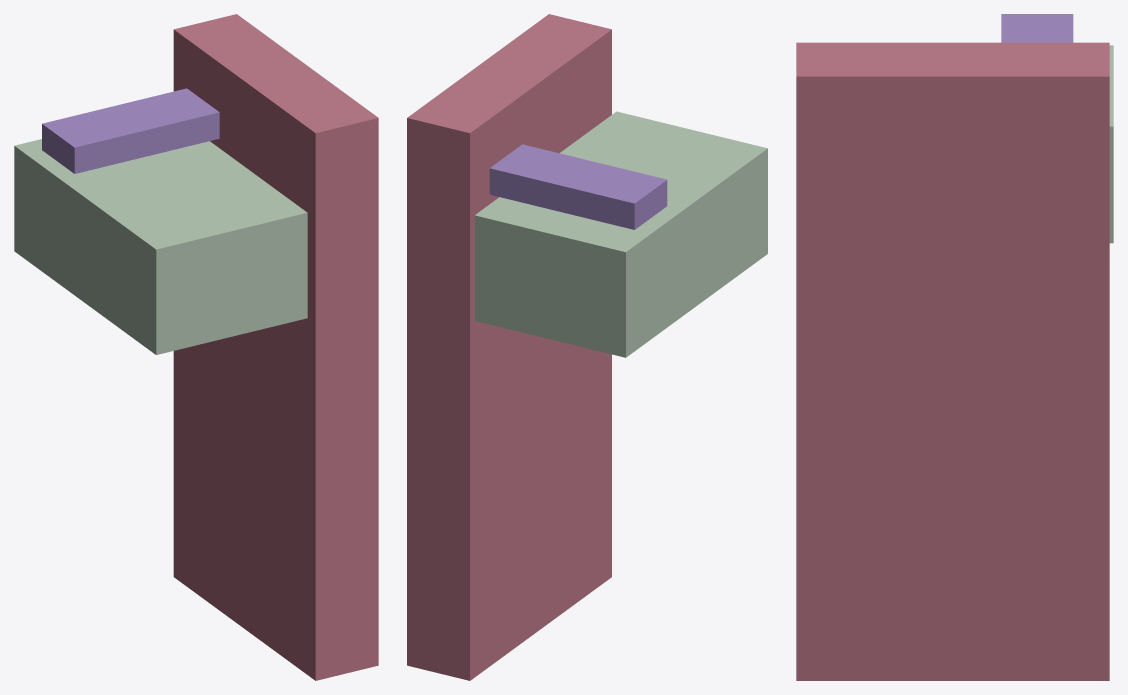
The picture shows the model from 3 angles, left to right: view 1: azimuth 30°, elevation 25°; view 2: azimuth 150°, elevation 25°; view 3: azimuth 270°, elevation 25°; orthographic projection. The views are drawn at different scales.
Visible parts, largest first — view 1: world; view 2: world; view 3: world.
Part boxes in pixels (box(x1,y1,x2,y2)): world: box(14, 14, 378, 680); world: box(407, 14, 767, 680); world: box(796, 14, 1113, 680).
Size of the model in its own units: 3.5 by 8.3 by 3.95.
